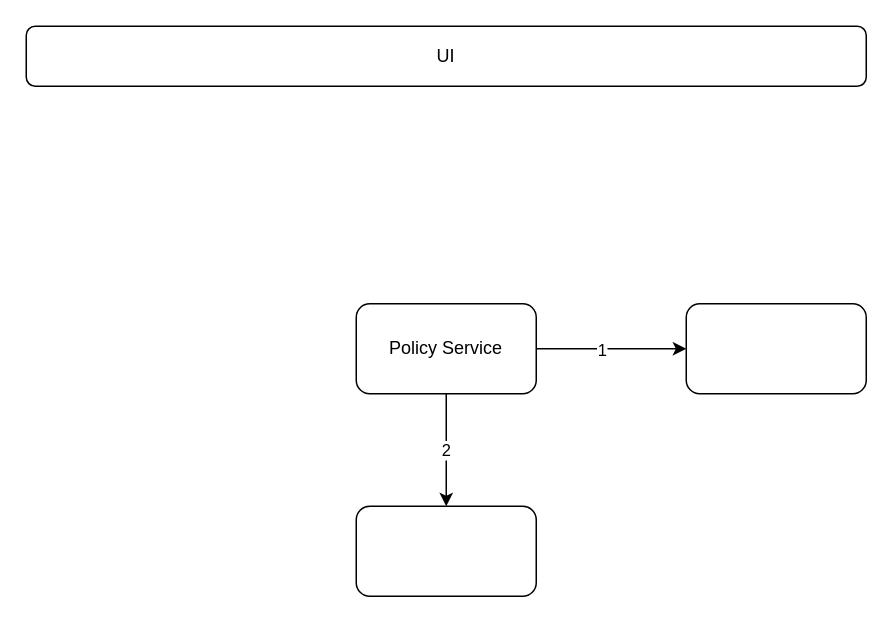
Some shapes in this 893 by 623 pixel diagram are drawn without their labels. The centre of each missing label's shape, as x and y in pixels:
"Billing Service" belongs at pixel 775 348.
"Notification Service" belongs at pixel 445 550.
